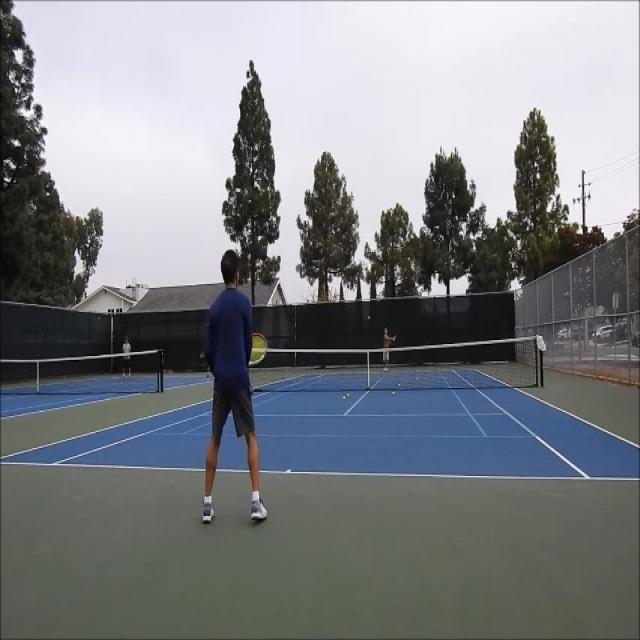court: (0, 370, 640, 480)
net: (213, 334, 548, 394)
player: (200, 247, 268, 524)
